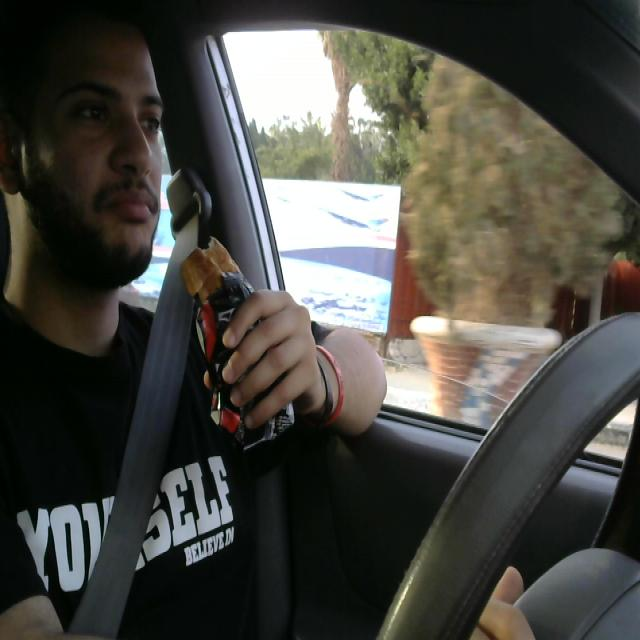eating: (178, 238, 297, 447)
